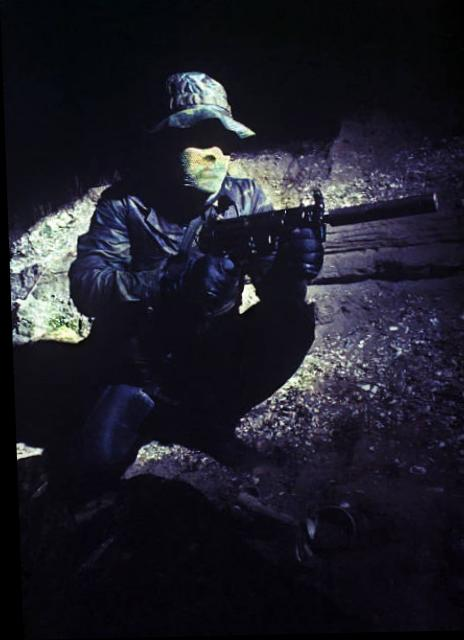other: (68, 90, 305, 457)
